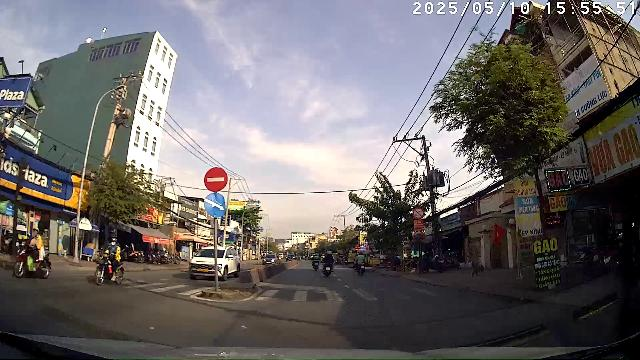102-cam-di-nguoc-chieu: (204, 166, 228, 192)
302a-huong-phai-di-vong-chuong-ngai-vat-1: (203, 192, 226, 218)
